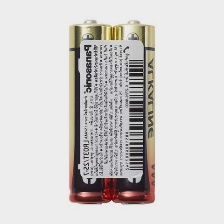battery: (110, 17, 158, 206), (67, 16, 114, 206)
